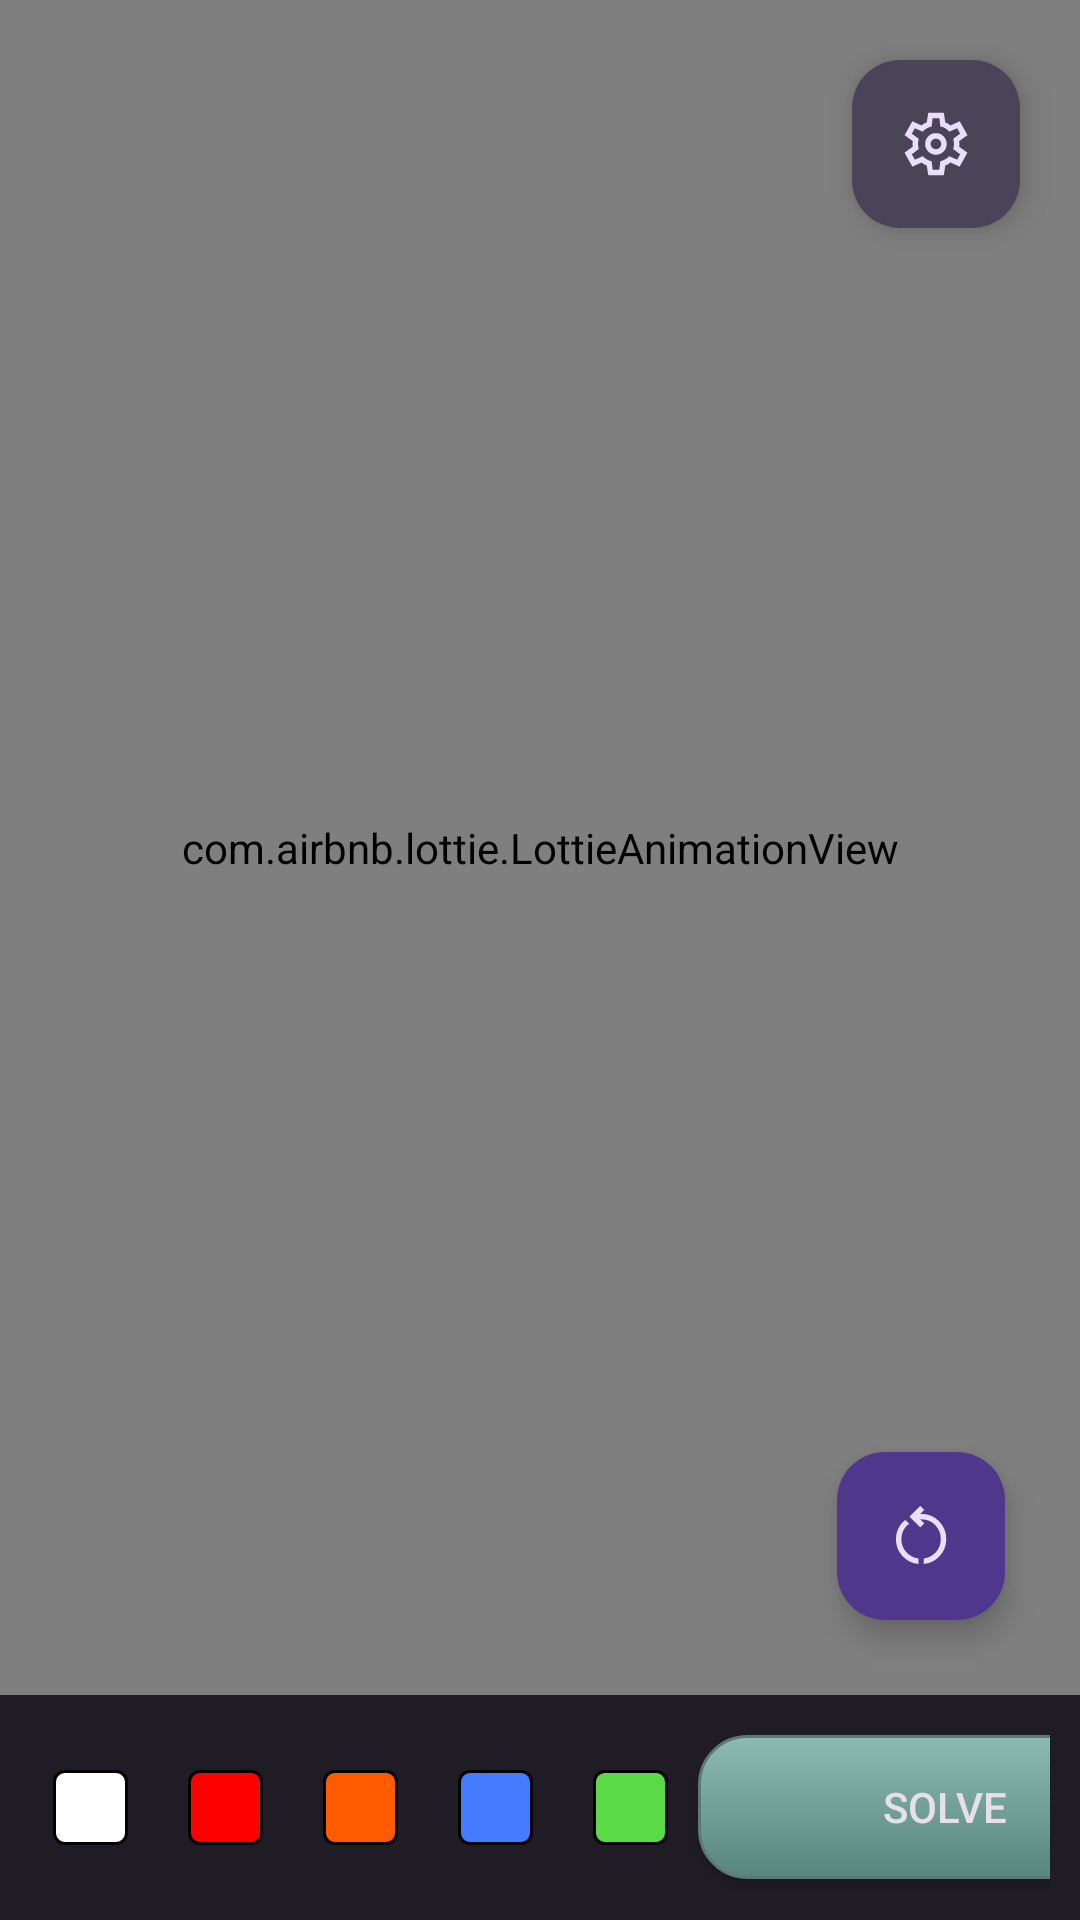

Icon bounding boxes for this 1080x1920 phone screenshot, format [left=x1, top=y1, right=x2, bottom=y2]:
rescan: [left=837, top=1452, right=1005, bottom=1620]
settings: [left=852, top=60, right=1020, bottom=228]
